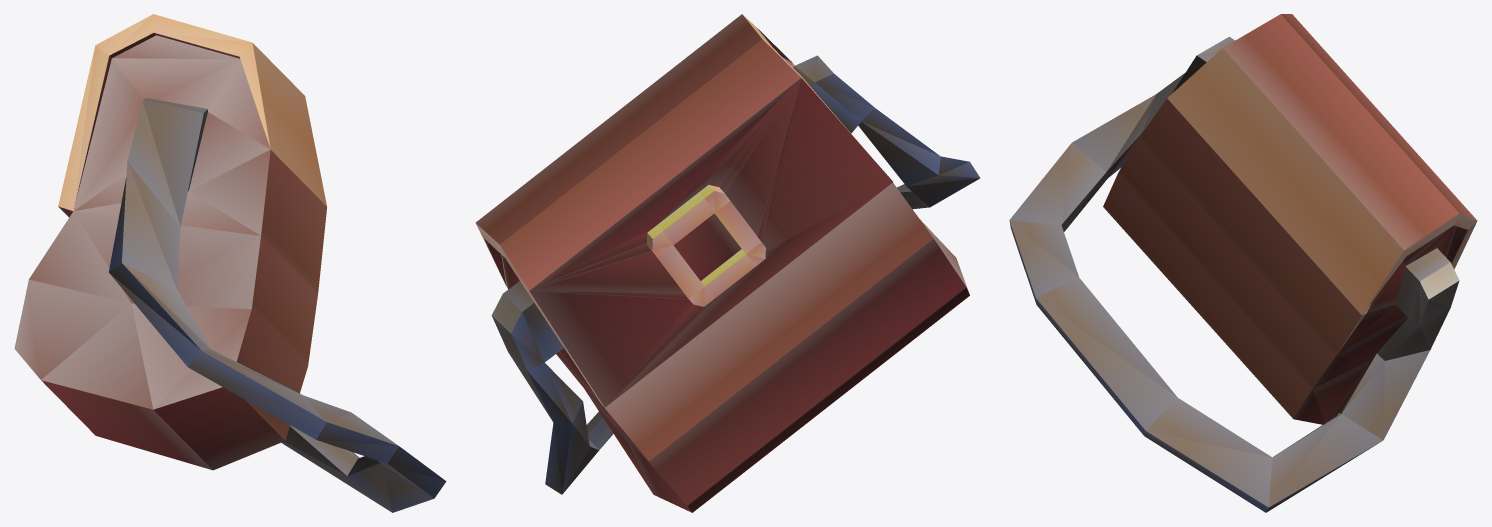
The model's file is bag02.fbx.
3 views of the same model, side by side, from view 1: azimuth 30°, elevation 25°; view 2: azimuth 150°, elevation 25°; view 3: azimuth 270°, elevation 25° (orthographic). The views are drawn at different scales.
Visible parts, largest first — view 1: bag02; view 2: bag02; view 3: bag02.
Boxes of the visible parts, x1,y1,x2,y2 form: bag02: [14, 14, 446, 512]; bag02: [475, 14, 980, 512]; bag02: [1009, 14, 1477, 512].
Size of the model in its own units: 116 by 143 by 147.
